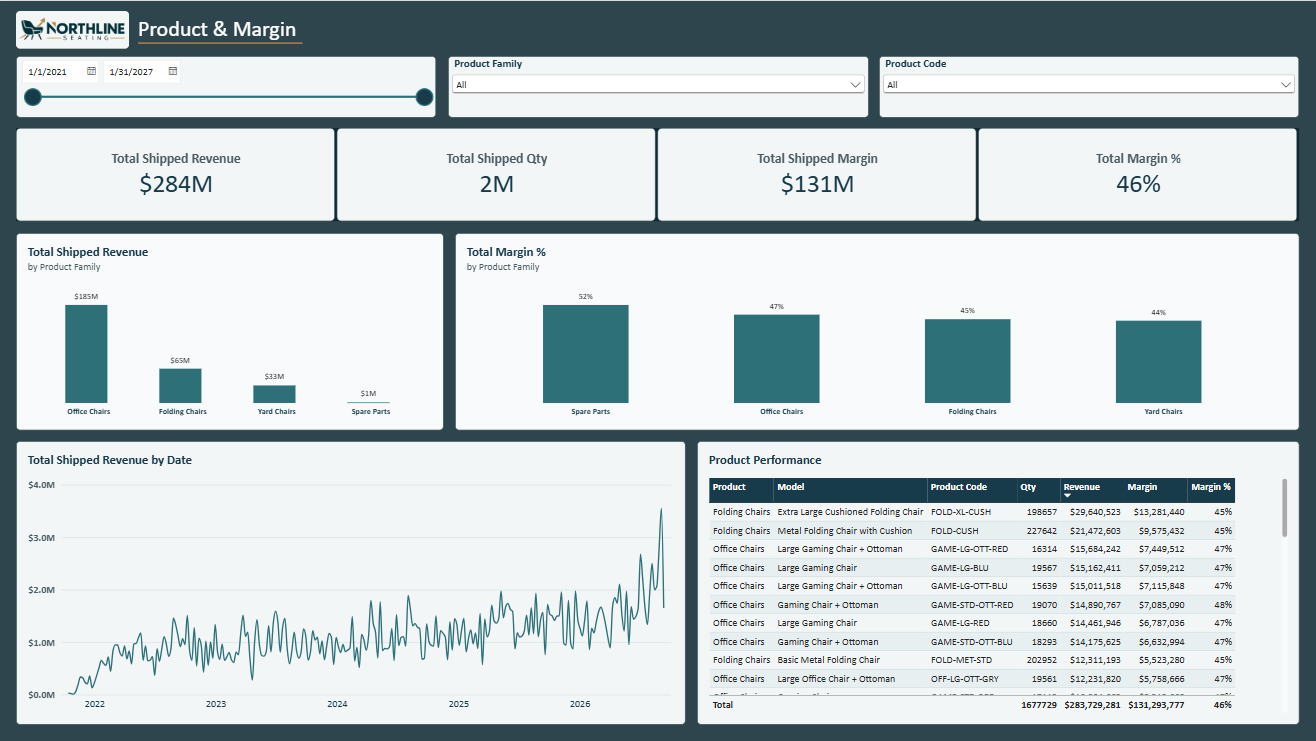

This screenshot's page, from the dashboard's own definition file:
{"tool":"powerbi","page":{"name":"Product & Margin","canvas":[1920,1080],"ordinal":7},"visuals":[{"type":"shape","box":[202.3,55,240,12],"z":0,"group":"g1"},{"type":"slicer","fields":{"Values":["Date.Date"]},"box":[24,80.1,613,90],"z":0},{"type":"textbox","box":[202.3,20,350,40],"z":1000,"group":"g1"},{"type":"slicer","fields":{"Values":["Product Reference.Product Family"]},"box":[653,80,614,90],"z":1000},{"type":"image","box":[24,14,165,55],"z":2000,"group":"g1"},{"type":"slicer","fields":{"Values":["Product Reference.Product Code"]},"box":[1283,80,613,90],"z":2000},{"type":"cardVisual","fields":{"Data":["Measures_.Total Shipped Revenue","Measures_.Total Shipped Qty","Measures_.Total Shipped Margin","Measures_.Total Margin %"]},"box":[24,186,1872,136],"z":3000},{"type":"clusteredColumnChart","fields":{"Category":["Product Reference.Product Family"],"Y":["Measures_.Total Shipped Revenue"]},"box":[24,338,624,288],"z":4000},{"type":"clusteredColumnChart","fields":{"Category":["Product Reference.Product Family"],"Y":["Measures_.Total Margin %"]},"box":[664,338,1232,288],"z":5000},{"type":"lineChart","fields":{"Category":["Date.Date"],"Y":["Measures_.Total Shipped Revenue"]},"box":[24,642,977,414],"z":6000},{"type":"tableEx","title":"Product Performance","fields":{"Values":["Product Reference.Product Family","Product Reference.Model","Product Reference.Product Code","Measures_.Total Shipped Qty","Measures_.Total Shipped Revenue","Measures_.Total Shipped Margin","Measures_.Total Margin %"]},"box":[1017.3,642.1,879.1,414.5],"z":7000},{"type":"group","id":"g1","title":"Group 1","box":[24,14,528.3,55],"z":8000}]}

Visuals, with their boxes in screenshot pixels (x1, y1, x2, y2), scaled from the page's 1920x1080 canvas onto the 1316x741 screenshot:
shape: x1=139, y1=38, x2=303, y2=46
slicer - Date.Date: x1=16, y1=55, x2=437, y2=117
textbox: x1=139, y1=14, x2=379, y2=41
slicer - Product Reference.Product Family: x1=448, y1=55, x2=868, y2=117
image: x1=16, y1=10, x2=130, y2=47
slicer - Product Reference.Product Code: x1=879, y1=55, x2=1300, y2=117
cardVisual - Measures_.Total Shipped Revenue x Measures_.Total Shipped Qty: x1=16, y1=128, x2=1300, y2=221
clusteredColumnChart - Product Reference.Product Family x Measures_.Total Shipped Revenue: x1=16, y1=232, x2=444, y2=430
clusteredColumnChart - Product Reference.Product Family x Measures_.Total Margin %: x1=455, y1=232, x2=1300, y2=430
lineChart - Date.Date x Measures_.Total Shipped Revenue: x1=16, y1=440, x2=686, y2=725
"Product Performance" tableEx: x1=697, y1=441, x2=1300, y2=725
"Group 1" group: x1=16, y1=10, x2=379, y2=47
